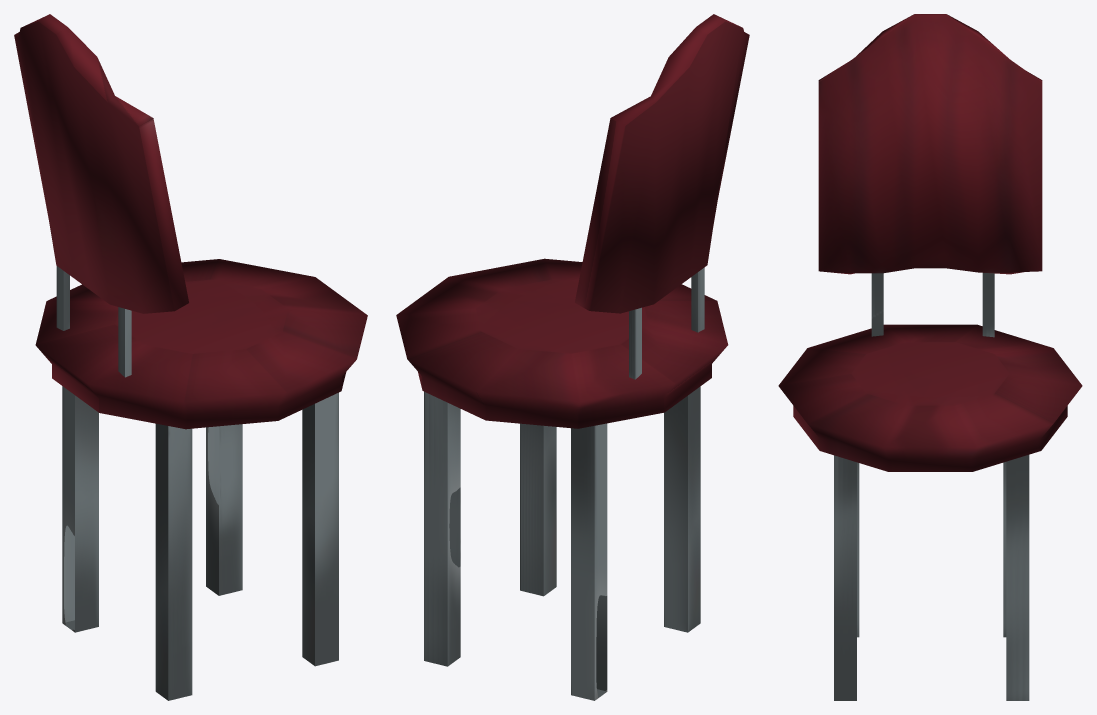
File: CityKit_RestaurantChair.fbx
3 views of the same model, side by side, from view 1: azimuth 30°, elevation 25°; view 2: azimuth 150°, elevation 25°; view 3: azimuth 270°, elevation 25° (orthographic). The views are drawn at different scales.
Visible parts, largest first — view 1: RestaurantChair; view 2: RestaurantChair; view 3: RestaurantChair.
Part boxes in pixels (x1,y1,x2,y2): RestaurantChair: (14, 14, 367, 700); RestaurantChair: (396, 14, 749, 700); RestaurantChair: (778, 14, 1082, 700).
Bounding box in the file's own units: 200 × 426 × 200.
Materials: 1 (1 with a texture image).
